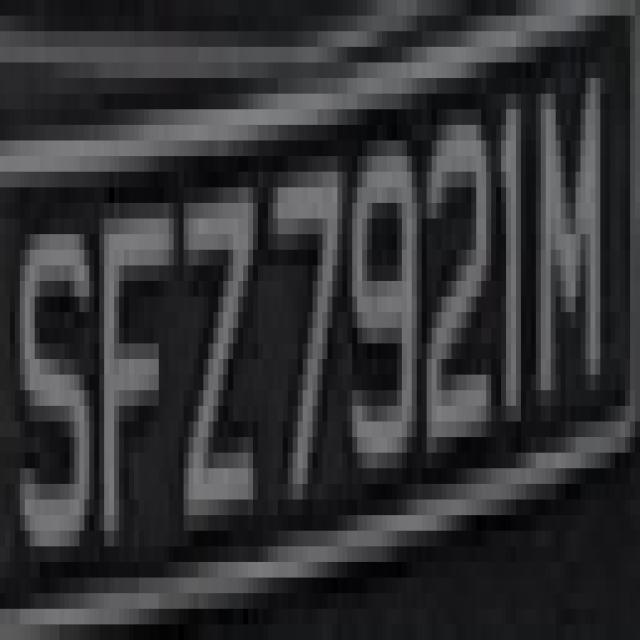1: (486, 62, 526, 484)
2: (402, 109, 491, 453)
7: (263, 109, 337, 546)
9: (337, 94, 422, 468)
F: (84, 125, 174, 562)
M: (531, 78, 620, 453)
S: (5, 172, 94, 562)
Z: (179, 156, 258, 593)
